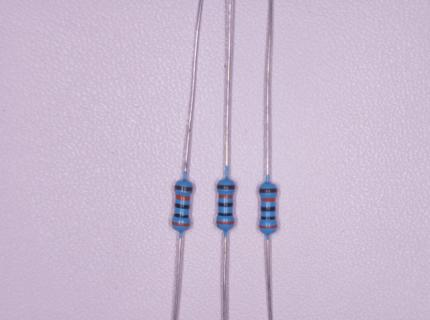Black band: (175, 203, 189, 209), (261, 206, 276, 211), (174, 213, 188, 218), (218, 202, 232, 207), (217, 213, 233, 217), (261, 216, 275, 220)
Brown band: (174, 184, 192, 191), (259, 188, 277, 193), (217, 185, 235, 189)
Orange band: (171, 222, 190, 227), (216, 220, 234, 225), (176, 194, 190, 200), (259, 225, 277, 229), (218, 194, 233, 198), (261, 198, 275, 201)
